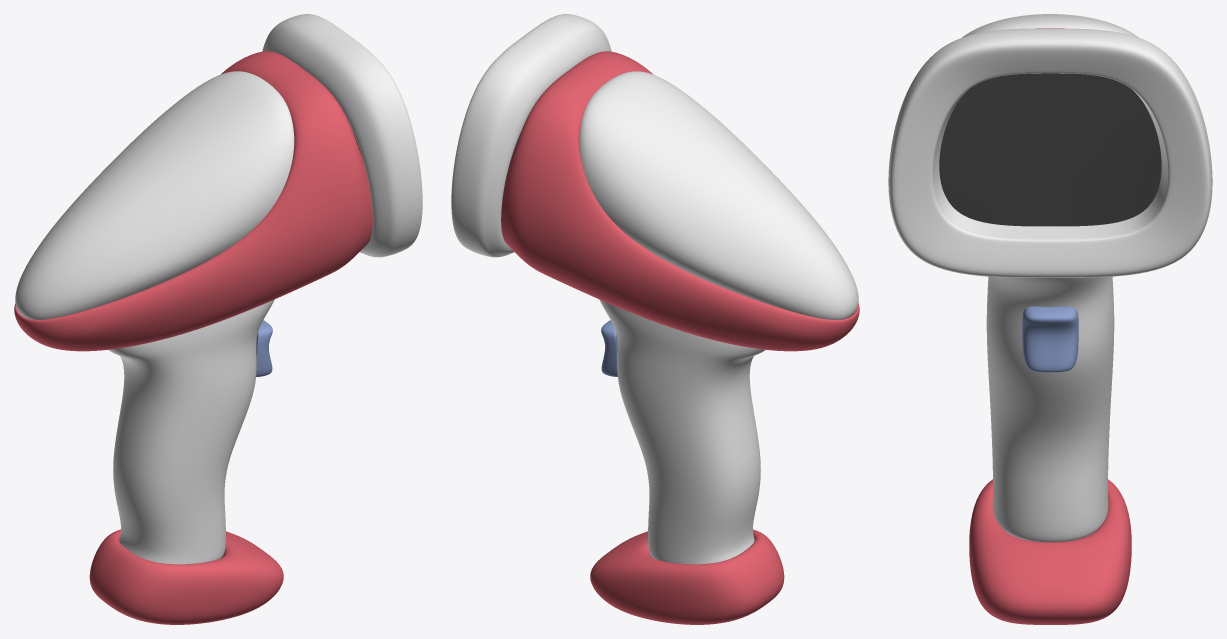
File: bar code scanner.fbx
3 renders of one model, left to right at view 1: azimuth 30°, elevation 25°; view 2: azimuth 150°, elevation 25°; view 3: azimuth 270°, elevation 25°, orthographic. The views are drawn at different scales.
Parts seen in each view (by area): view 1: Cube.005, Cube.006, Cube.004; view 2: Cube.005, Cube.006, Cube.004; view 3: Cube.005, Cube.004, Cube.006.
Part boxes in pixels (<box>): Cube.005: <box>14,14,422,564</box>; Cube.006: <box>15,71,294,319</box>; Cube.004: <box>89,529,283,624</box>; Cube.005: <box>451,14,859,564</box>; Cube.006: <box>579,71,858,319</box>; Cube.004: <box>590,529,784,624</box>; Cube.005: <box>888,28,1212,542</box>; Cube.004: <box>969,479,1131,624</box>; Cube.006: <box>962,14,1138,37</box>.
Size of the model in its own units: 137 by 207 by 93.42.
